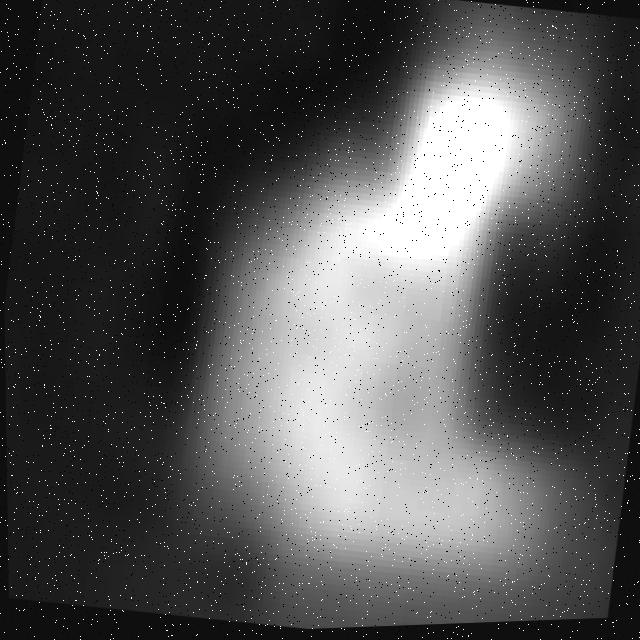person: (131, 1, 640, 637)
